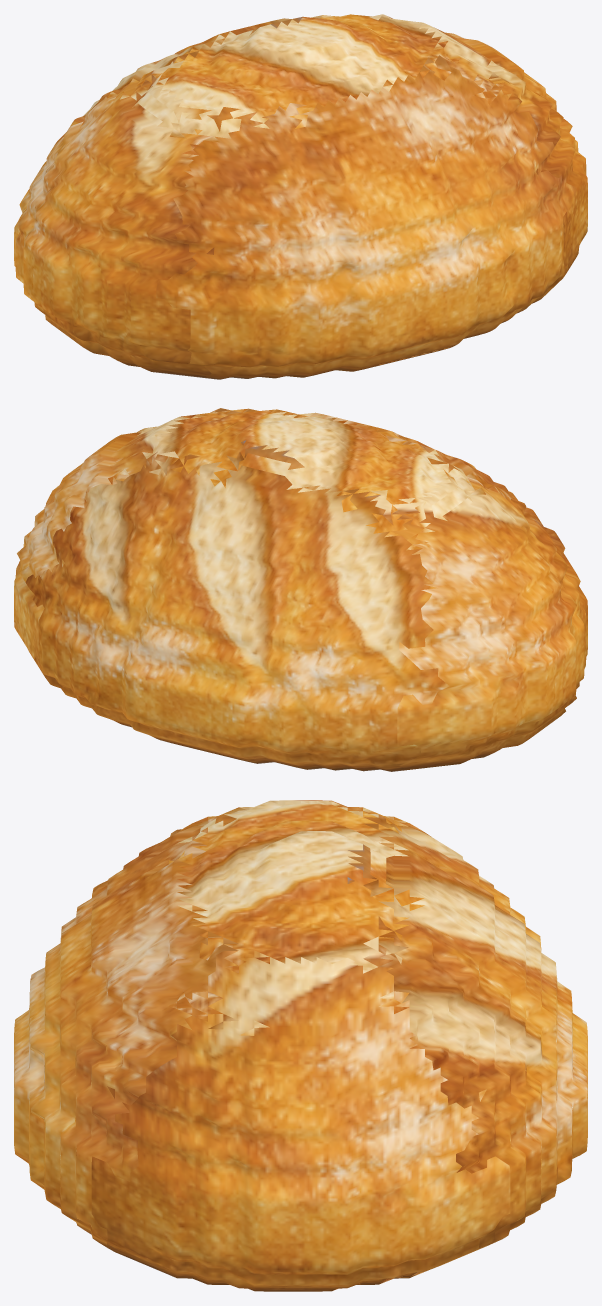
The model's file is loaf.glb.
The picture shows the model from 3 angles, top to bottom: view 1: azimuth 30°, elevation 25°; view 2: azimuth 150°, elevation 25°; view 3: azimuth 270°, elevation 25°; orthographic projection. The views are drawn at different scales.
Size of the model in its own units: 2.2 by 1 by 1.71.
1 material, 1 textured.
